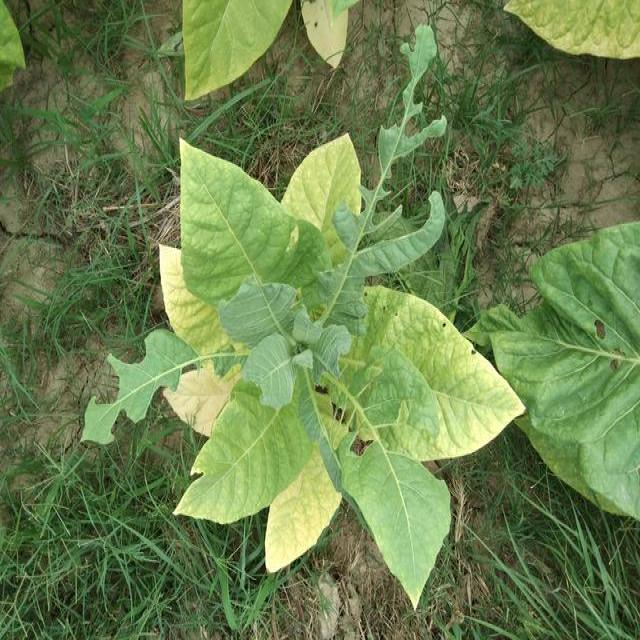crop: (146, 120, 523, 616)
